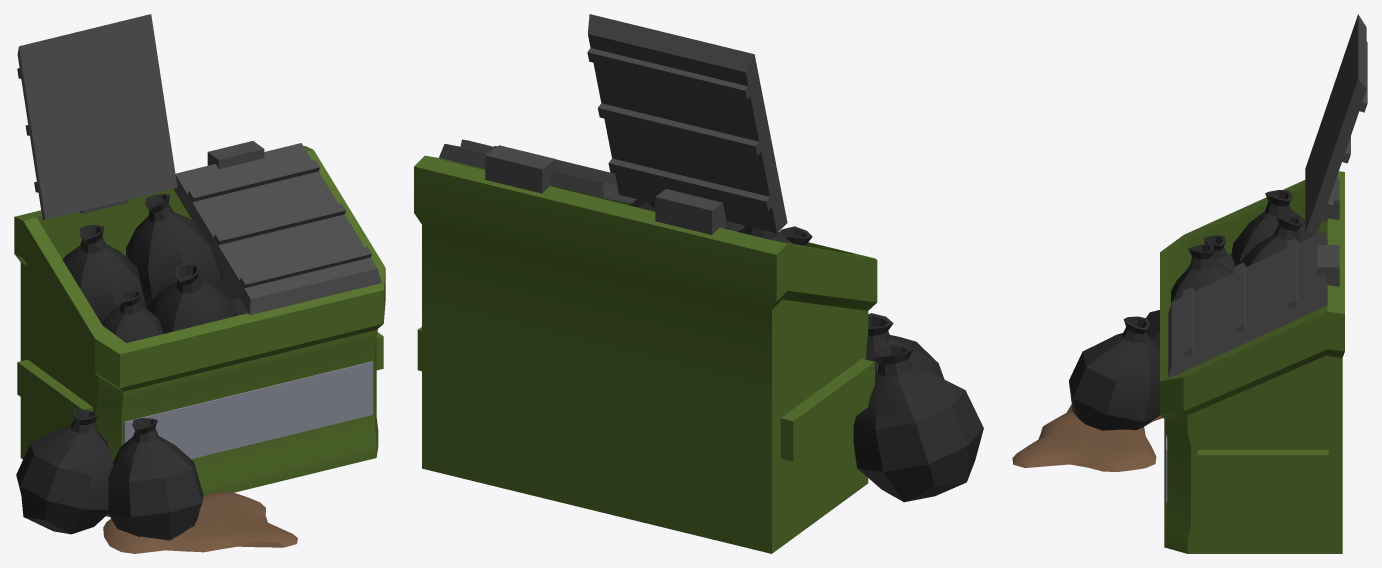
The model's file is TrashContainer_Open.glb.
The picture shows the model from 3 angles, left to right: view 1: azimuth 30°, elevation 25°; view 2: azimuth 150°, elevation 25°; view 3: azimuth 270°, elevation 25°; orthographic projection. The views are drawn at different scales.
Visible parts, largest first — view 1: TrashContainer_Open; view 2: TrashContainer_Open; view 3: TrashContainer_Open.
Part boxes in pixels (x1,y1,x2,y2): TrashContainer_Open: [14, 14, 385, 553]; TrashContainer_Open: [414, 14, 983, 553]; TrashContainer_Open: [1012, 14, 1367, 553].
Bounding box in the file's own units: 3.16 × 3.34 × 2.63.
